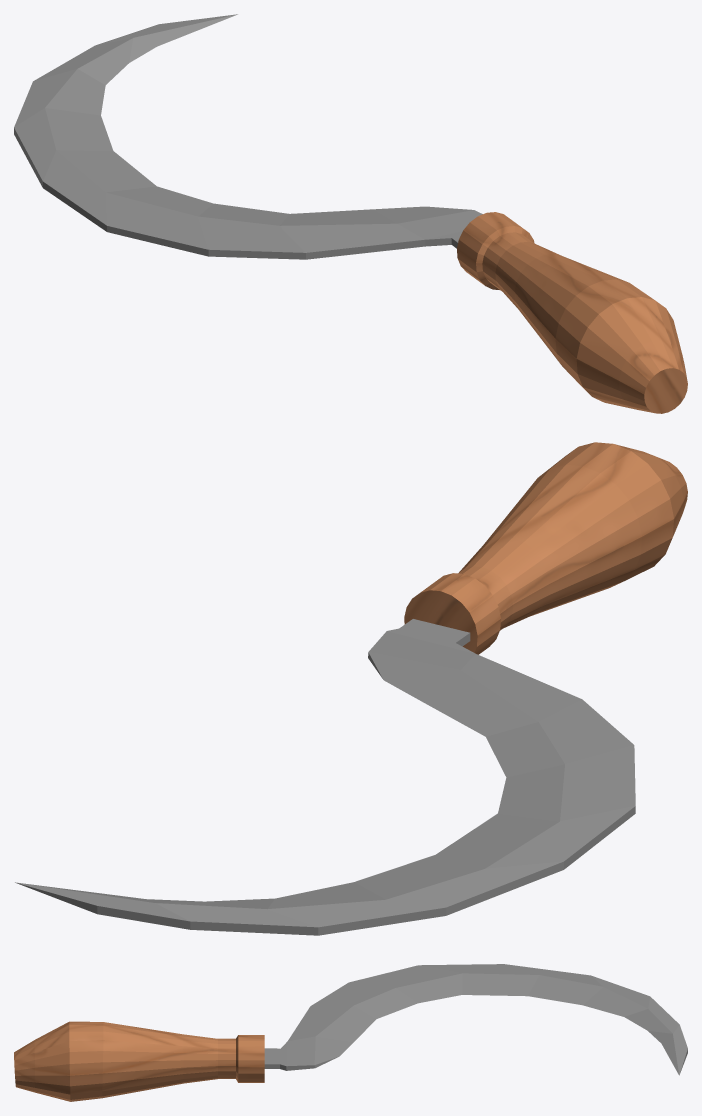
Rendered from Sikle.fbx.
3 views of the same model, one above another, from view 1: azimuth 30°, elevation 25°; view 2: azimuth 150°, elevation 25°; view 3: azimuth 270°, elevation 25° (orthographic). The views are drawn at different scales.
Parts seen in each view (by area): view 1: Cylinder.011; view 2: Cylinder.011; view 3: Cylinder.011.
Part boxes in pixels (x1,y1,x2,y2): Cylinder.011: (14, 14, 687, 413); Cylinder.011: (15, 442, 687, 935); Cylinder.011: (14, 964, 687, 1101).
Bounding box in the file's own units: 32.6 × 10.1 × 84.84.
